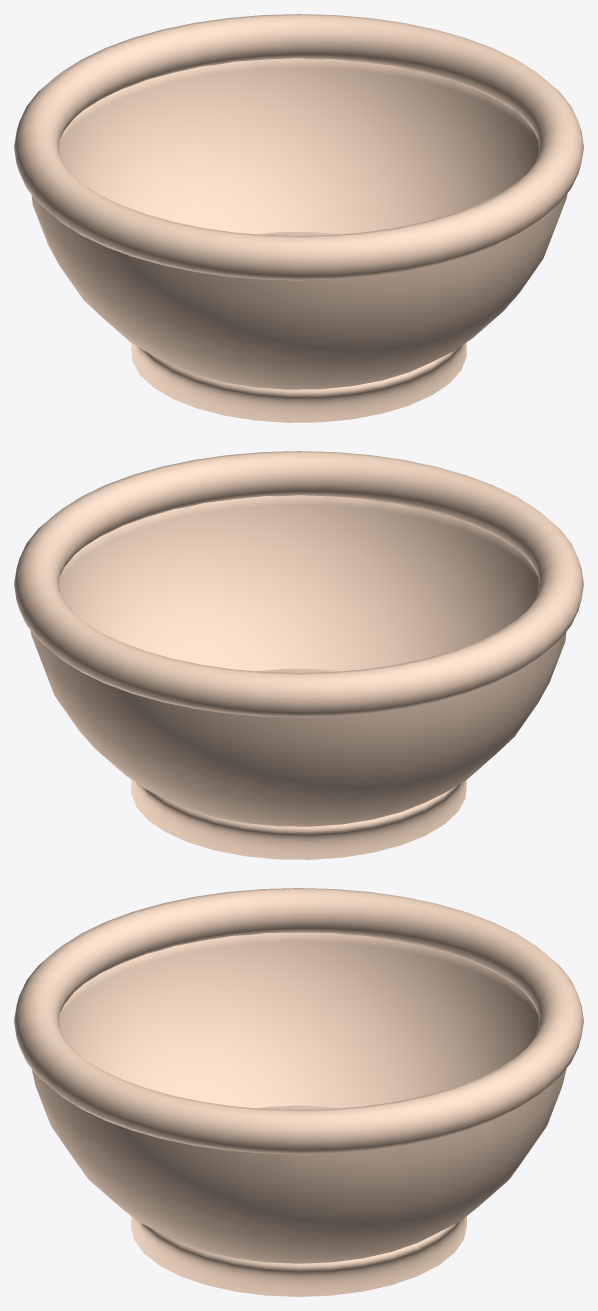
Rendered from bowl3.fbx.
3 renders of one model, top to bottom at view 1: azimuth 30°, elevation 25°; view 2: azimuth 150°, elevation 25°; view 3: azimuth 270°, elevation 25°, orthographic.
Visible parts, largest first — view 1: Cylinder.026, Torus.009; view 2: Cylinder.026, Torus.009; view 3: Cylinder.026, Torus.009.
Boxes of the visible parts, <box> form: Cylinder.026: <box>31,58,567,422</box>; Torus.009: <box>14,14,583,280</box>; Cylinder.026: <box>30,495,566,859</box>; Torus.009: <box>14,451,583,717</box>; Cylinder.026: <box>31,932,566,1296</box>; Torus.009: <box>14,888,583,1154</box>.
Size of the model in its own units: 208 by 96.31 by 208.
